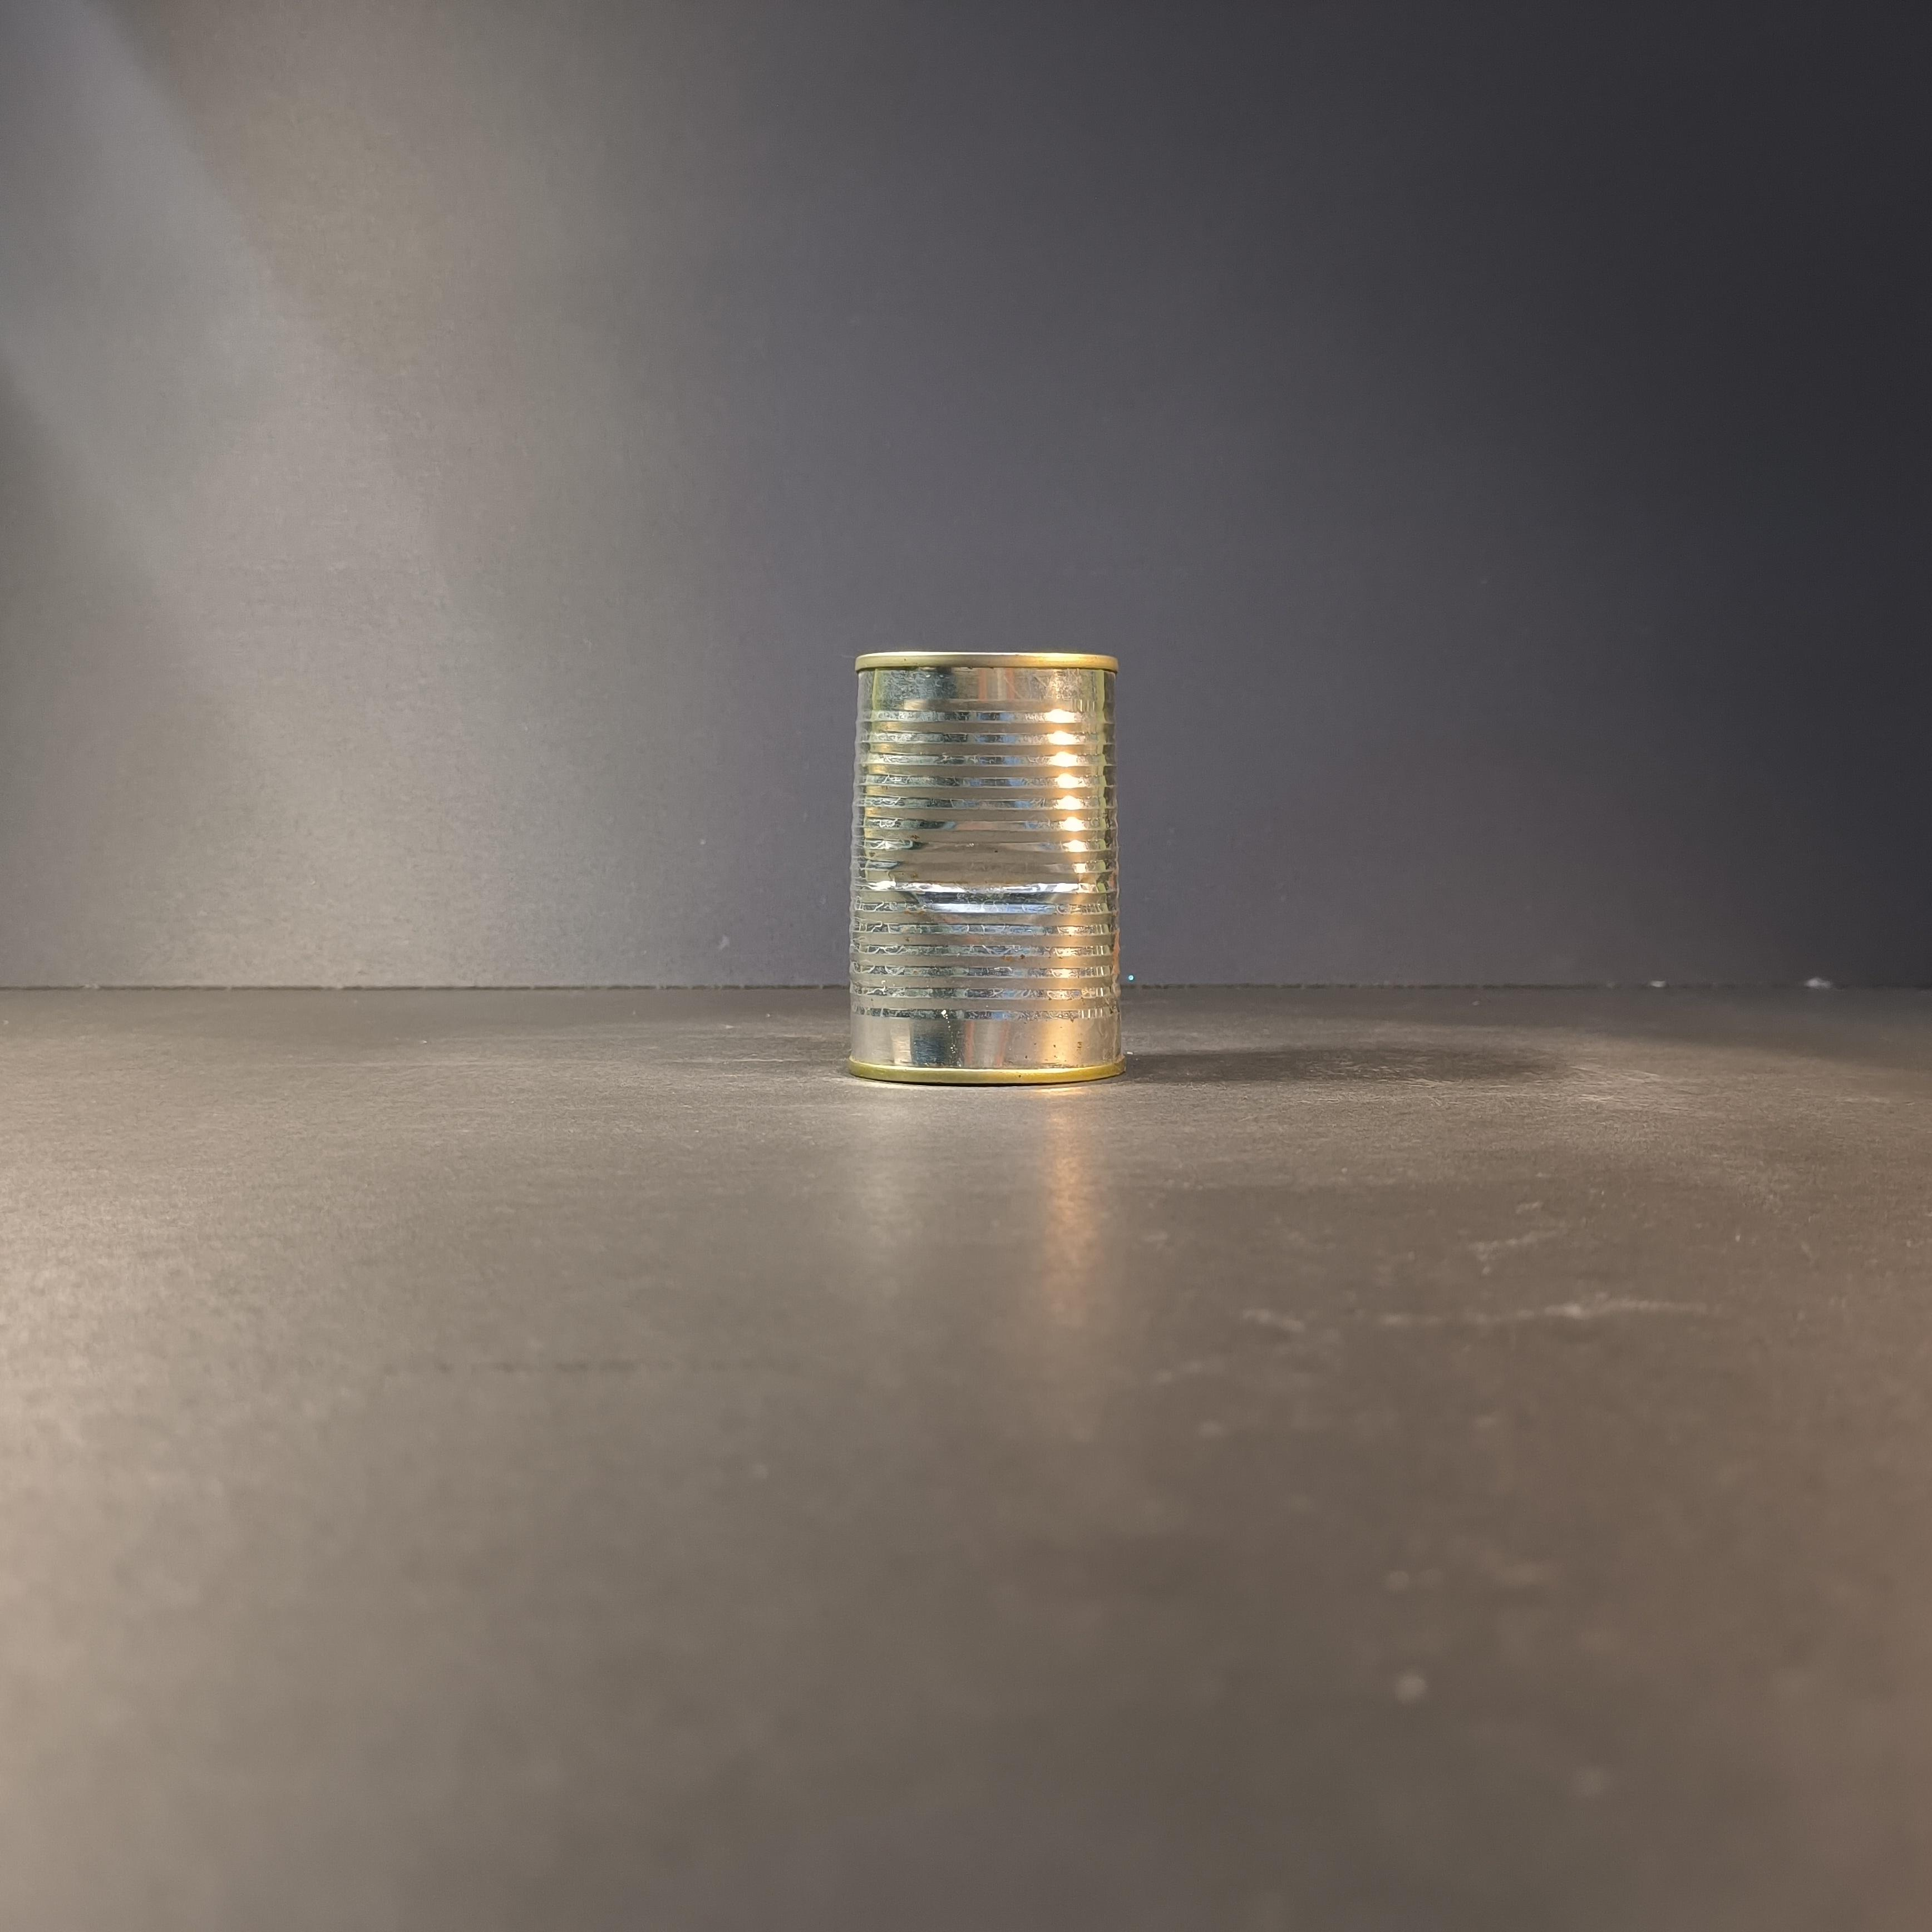Minor Defect: (844, 648, 1131, 1090)
